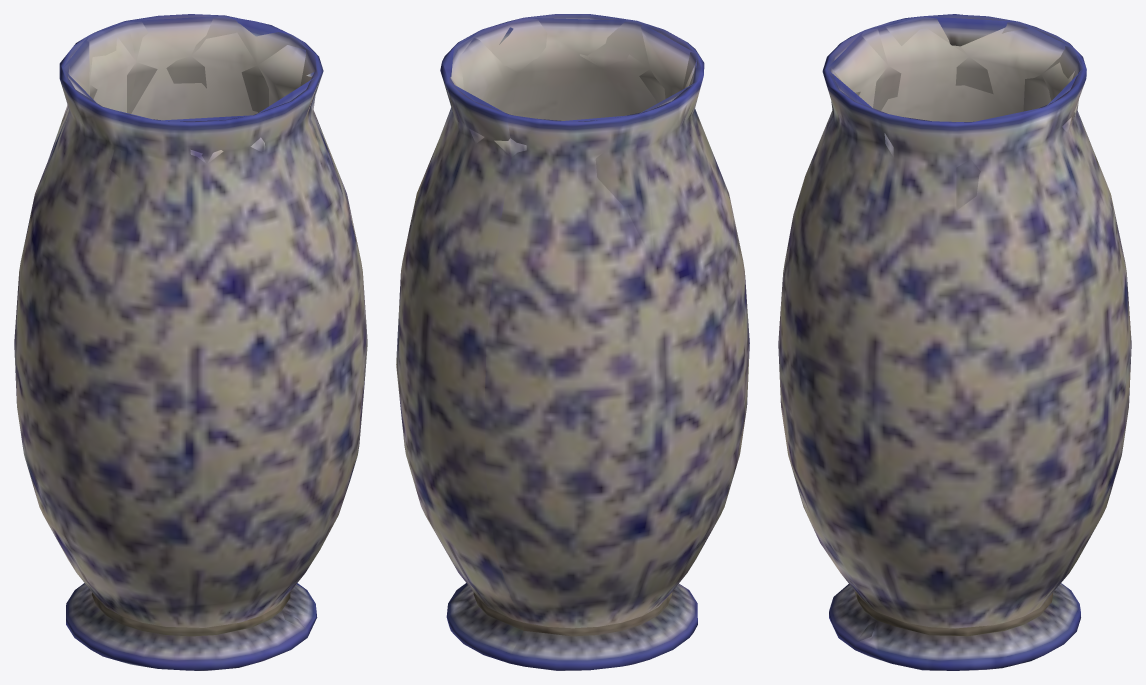
File: antique_ceramic_vase_01.glb
The picture shows the model from 3 angles, left to right: view 1: azimuth 30°, elevation 25°; view 2: azimuth 150°, elevation 25°; view 3: azimuth 270°, elevation 25°; orthographic projection.
Visible parts, largest first — view 1: antique_ceramic_vase_01, antique_ceramic_vase_01_lo; view 2: antique_ceramic_vase_01, antique_ceramic_vase_01_lo; view 3: antique_ceramic_vase_01, antique_ceramic_vase_01_lo.
Part boxes in pixels (x1=…): antique_ceramic_vase_01: x1=14, y1=14, x2=367, y2=670; antique_ceramic_vase_01_lo: x1=34, y1=16, x2=315, y2=630; antique_ceramic_vase_01: x1=396, y1=14, x2=749, y2=670; antique_ceramic_vase_01_lo: x1=397, y1=17, x2=702, y2=371; antique_ceramic_vase_01: x1=778, y1=14, x2=1131, y2=670; antique_ceramic_vase_01_lo: x1=818, y1=16, x2=1082, y2=642.
Size of the model in its own units: 0.255 by 0.4396 by 0.255.
Materials: 1 (1 with a texture image).
